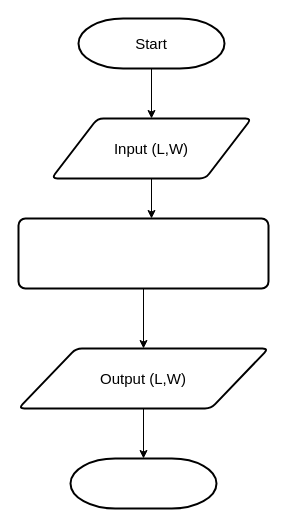
Image size: 286x526. Some labels were removed from this diagram. Each missing label, with the centre of its shape:
"End" belongs at (143,483).
"Trapezoid area = 1/2(B1=B2)" belongs at (143,253).
